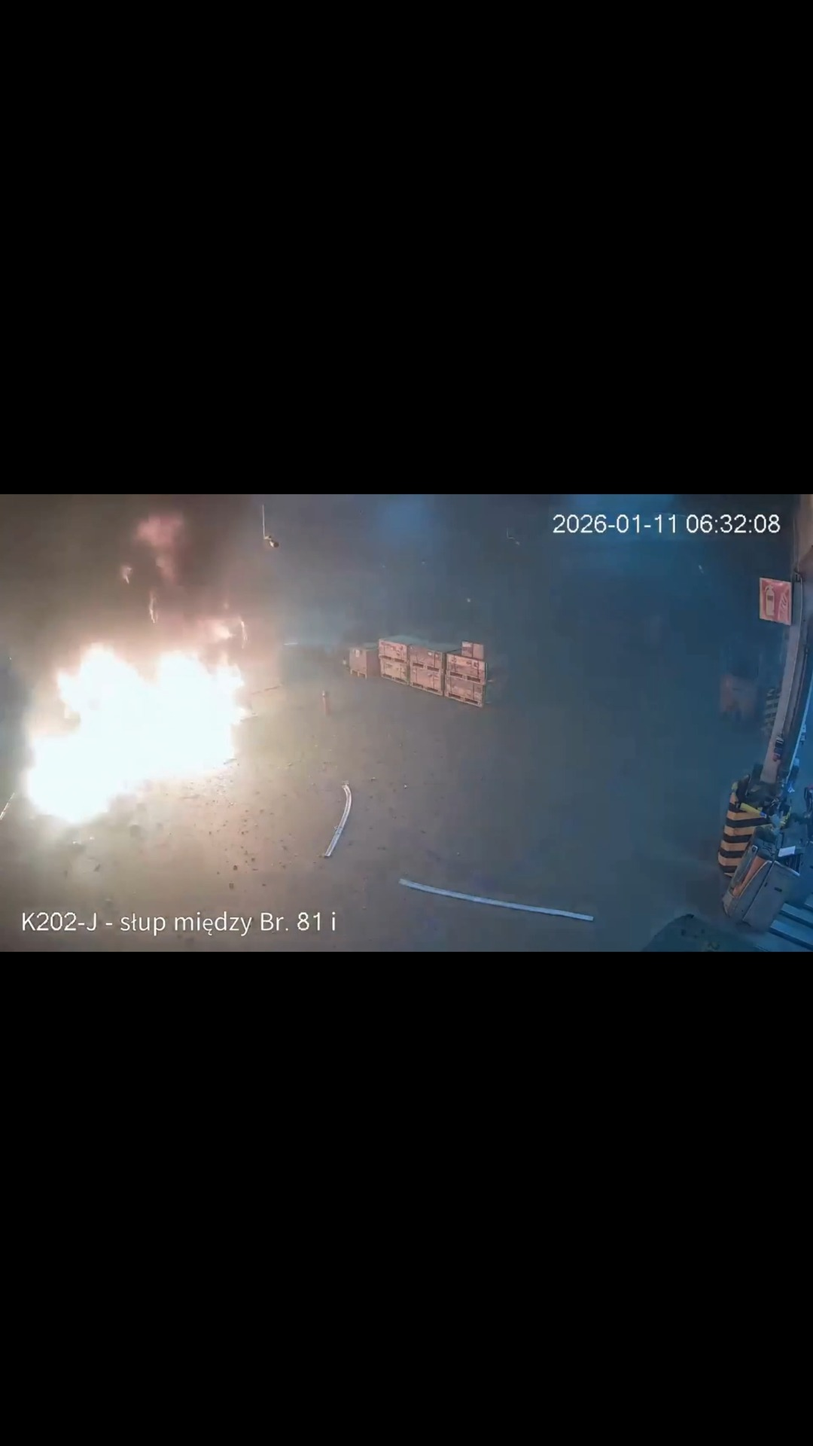fire: (23, 640, 252, 828)
smoke: (36, 496, 375, 674)
